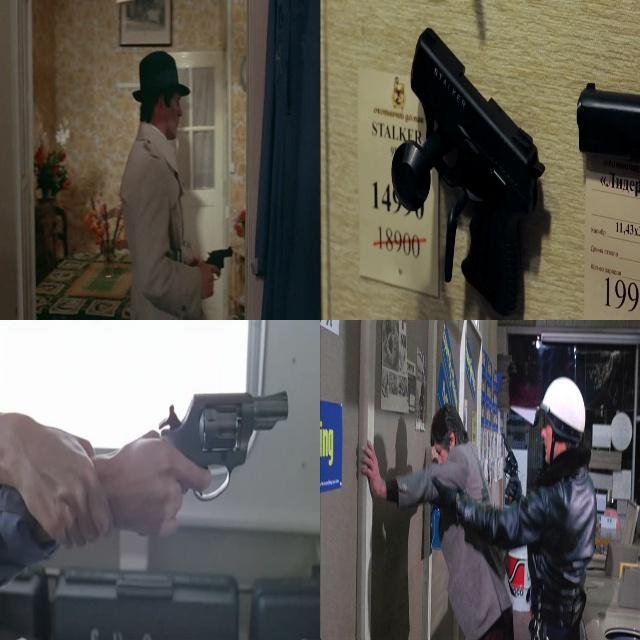gun-knife-thesis - v11 Yolov5 augmented: (395, 26, 536, 319), (124, 364, 293, 534), (494, 416, 522, 492), (196, 242, 233, 299)
